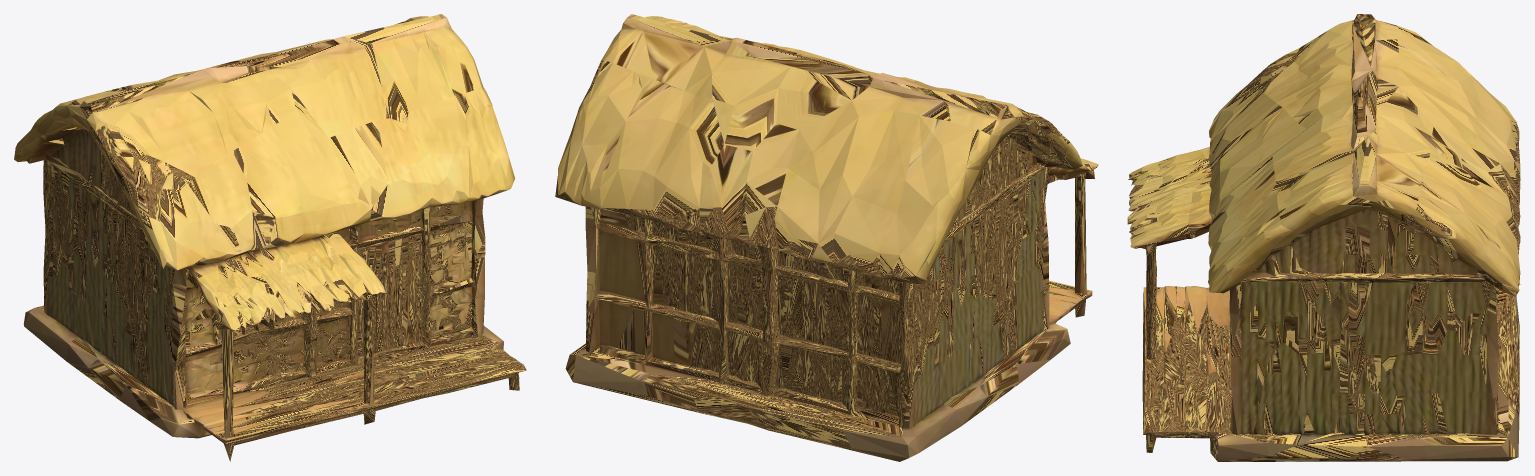
Rendered from nha-mai-tranh-xa.ac64f66b.glb.
3 views of the same model, side by side, from view 1: azimuth 30°, elevation 25°; view 2: azimuth 150°, elevation 25°; view 3: azimuth 270°, elevation 25° (orthographic). The views are drawn at different scales.
Parts seen in each view (by area): view 1: tripo_node_dd758f07-c6de-4ccc-aace-e3f0e90ebc94; view 2: tripo_node_dd758f07-c6de-4ccc-aace-e3f0e90ebc94; view 3: tripo_node_dd758f07-c6de-4ccc-aace-e3f0e90ebc94.
Boxes of the visible parts, <box> form: tripo_node_dd758f07-c6de-4ccc-aace-e3f0e90ebc94: <box>14,14,526,461</box>; tripo_node_dd758f07-c6de-4ccc-aace-e3f0e90ebc94: <box>555,14,1098,461</box>; tripo_node_dd758f07-c6de-4ccc-aace-e3f0e90ebc94: <box>1127,14,1520,461</box>.
Bounding box in the file's own units: 0.9788 × 0.7381 × 0.9157.
1 material, 1 textured.
